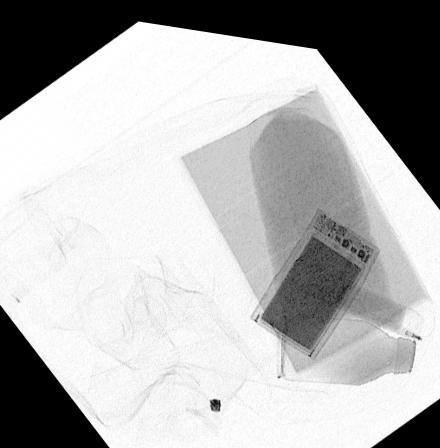Powerbank: (247, 198, 380, 351)
